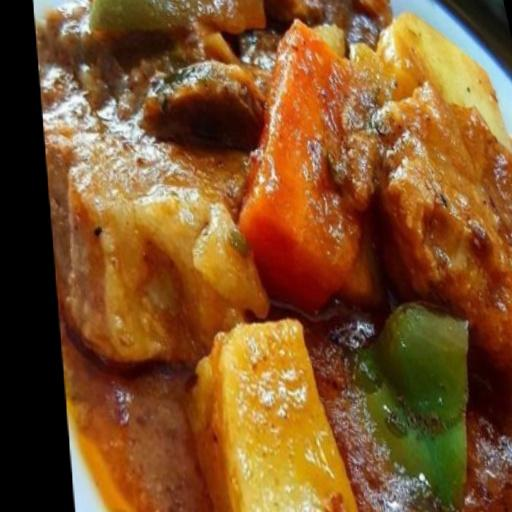pork caldereta: (34, 0, 511, 511)
